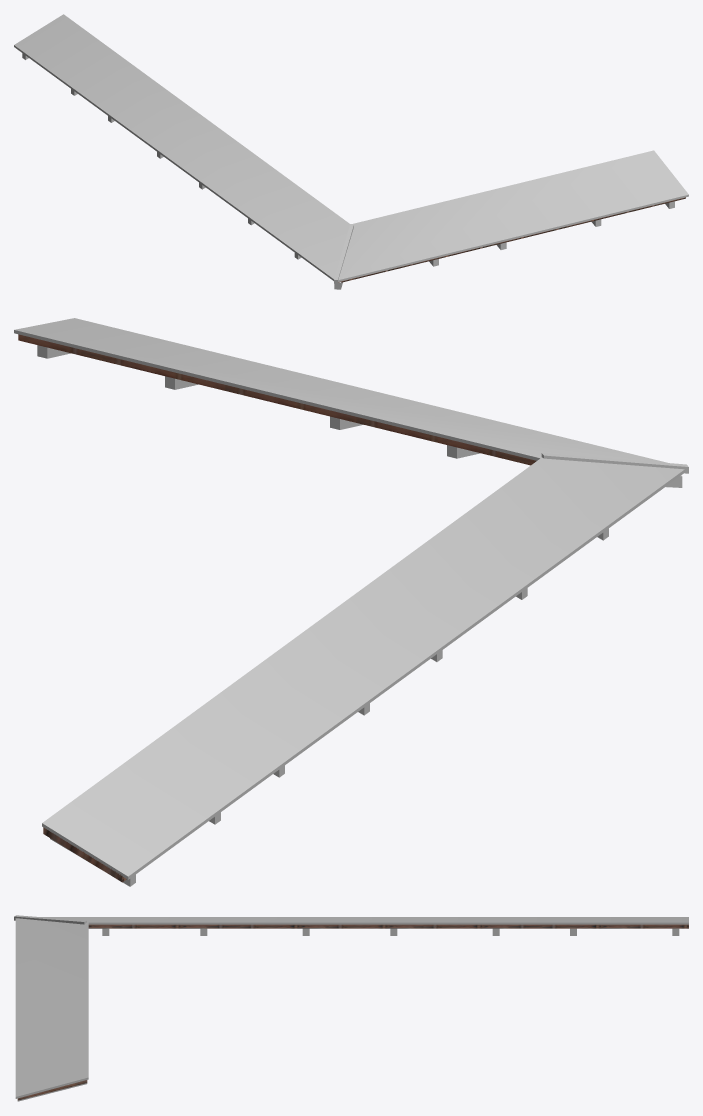
File: ms_h01_sunshade4.fbx
3 views of the same model, one above another, from view 1: azimuth 30°, elevation 25°; view 2: azimuth 150°, elevation 25°; view 3: azimuth 270°, elevation 25° (orthographic). The views are drawn at different scales.
Parts seen in each view (by area): view 1: ms_h01_sunshade4; view 2: ms_h01_sunshade4; view 3: ms_h01_sunshade4.
Part boxes in pixels (x1,y1,x2,y2): ms_h01_sunshade4: [14, 14, 688, 289]; ms_h01_sunshade4: [14, 318, 688, 886]; ms_h01_sunshade4: [14, 915, 688, 1101].
Size of the model in its own units: 672 by 55.69 by 1060.
